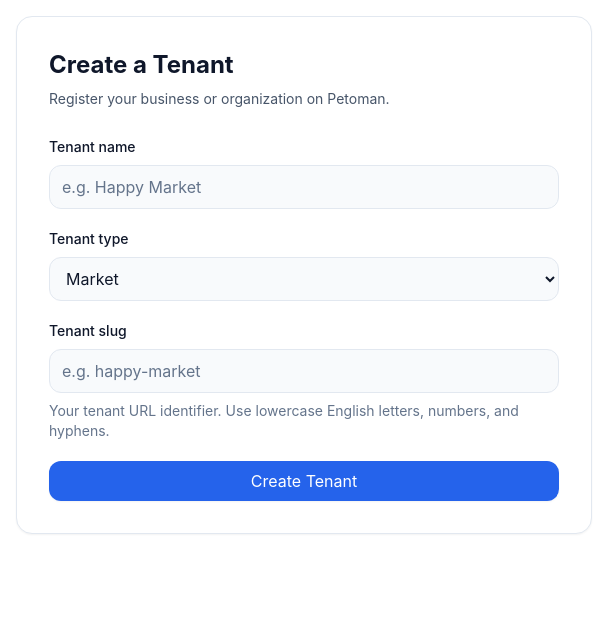
CreateTenantPage › displays an error when tenant slug already exists
Type "Happy Market" into the field labelled "Tenant name".
click(304, 187); type("Happy Market")  # box x1=49 y1=165 x2=559 y2=209
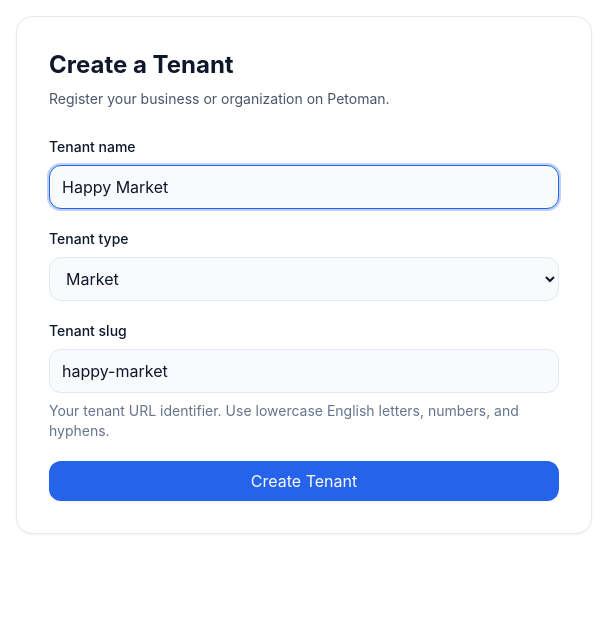
Click the button "Create Tenant".
click(304, 481)  # box x1=49 y1=461 x2=559 y2=501
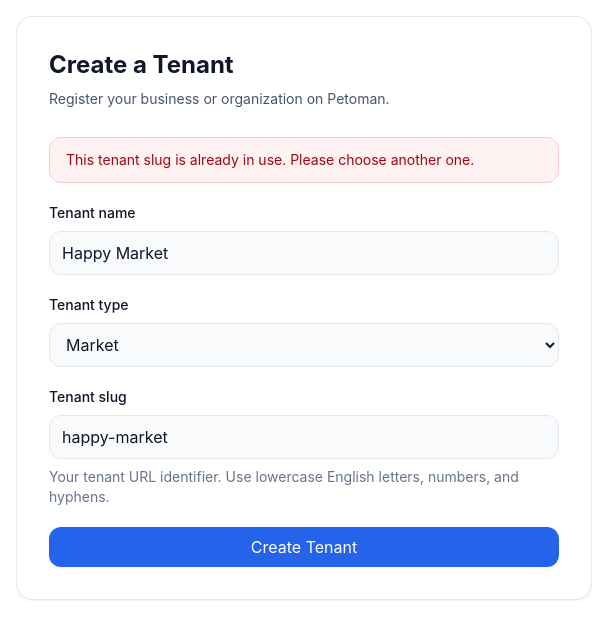
Expected: the text "This tenant slug is already in use" is shown, x1=66 y1=151 x2=474 y2=168
